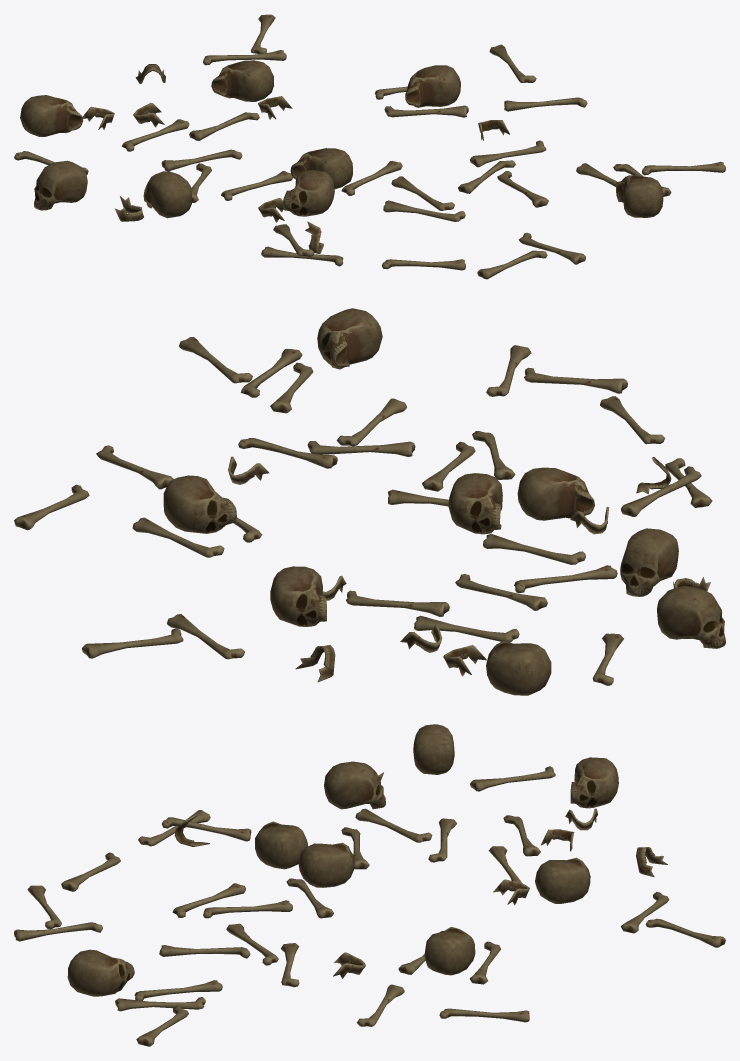
File: BonePile_LOD0.fbx
3 renders of one model, top to bottom at view 1: azimuth 30°, elevation 25°; view 2: azimuth 150°, elevation 25°; view 3: azimuth 270°, elevation 25°, orthographic. The views are drawn at different scales.
Parts seen in each view (by area): view 1: BonePile; view 2: BonePile; view 3: BonePile.
Boxes of the visible parts, x1,y1,x2,y2 form: BonePile: [14, 14, 725, 279]; BonePile: [14, 308, 725, 695]; BonePile: [14, 724, 725, 1046].
Size of the model in its own units: 2.37 by 0.1569 by 2.43.
